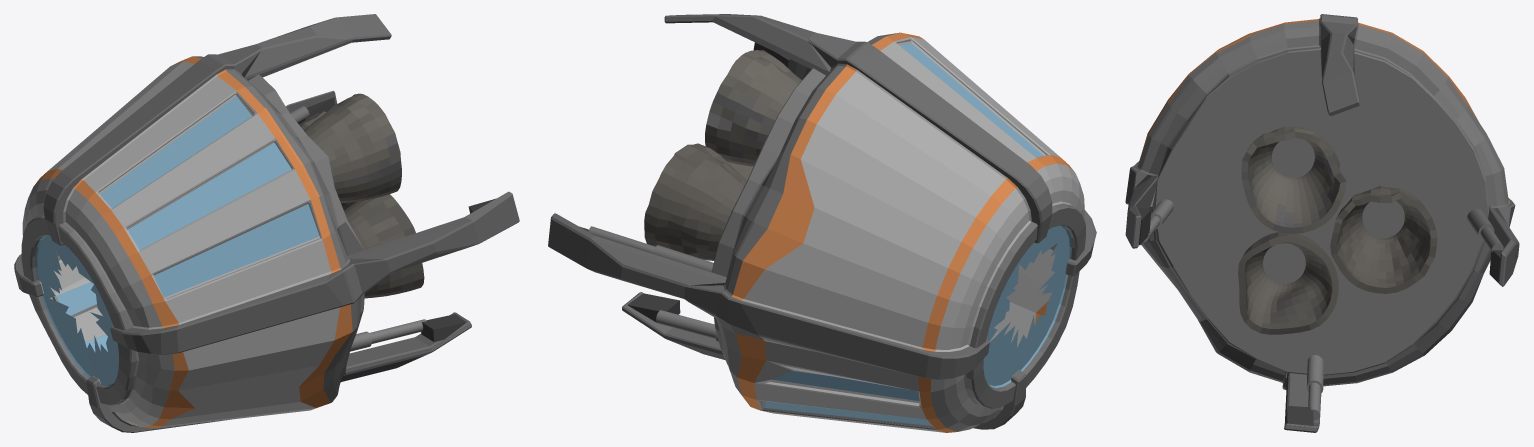
File: escape_pod1.fbx
3 views of the same model, side by side, from view 1: azimuth 30°, elevation 25°; view 2: azimuth 150°, elevation 25°; view 3: azimuth 270°, elevation 25° (orthographic). The views are drawn at different scales.
Parts seen in each view (by area): view 1: main pod, engines, Circle.004, Cylinder.004, leg 4 hydraulics; view 2: main pod, Circle.003, engines, Cylinder.003, Cylinder.004, leg 4 hydraulics; view 3: main pod, Circle.003, engines, Circle.004, Cylinder.004, Cylinder.003, Cylinder.001, leg 4 hydraulics.
Part boxes in pixels (<box>): main pod: <box>14,14,519,432</box>; engines: <box>304,93,401,202</box>; Circle.004: <box>344,194,424,298</box>; Cylinder.004: <box>350,319,426,351</box>; leg 4 hydraulics: <box>421,314,469,342</box>; main pod: <box>548,14,1096,432</box>; Circle.003: <box>644,143,746,260</box>; engines: <box>705,50,801,166</box>; Cylinder.003: <box>588,226,713,272</box>; Cylinder.004: <box>656,310,718,342</box>; leg 4 hydraulics: <box>625,293,680,322</box>; main pod: <box>1125,14,1519,432</box>; Circle.003: <box>1330,185,1437,293</box>; engines: <box>1241,126,1346,233</box>; Circle.004: <box>1238,232,1338,334</box>; Cylinder.004: <box>1306,355,1323,420</box>; Cylinder.003: <box>1467,208,1503,252</box>; Cylinder.001: <box>1143,199,1173,242</box>; leg 4 hydraulics: <box>1286,405,1313,426</box>.
Bounding box in the file's own units: 1039 × 880 × 885.
